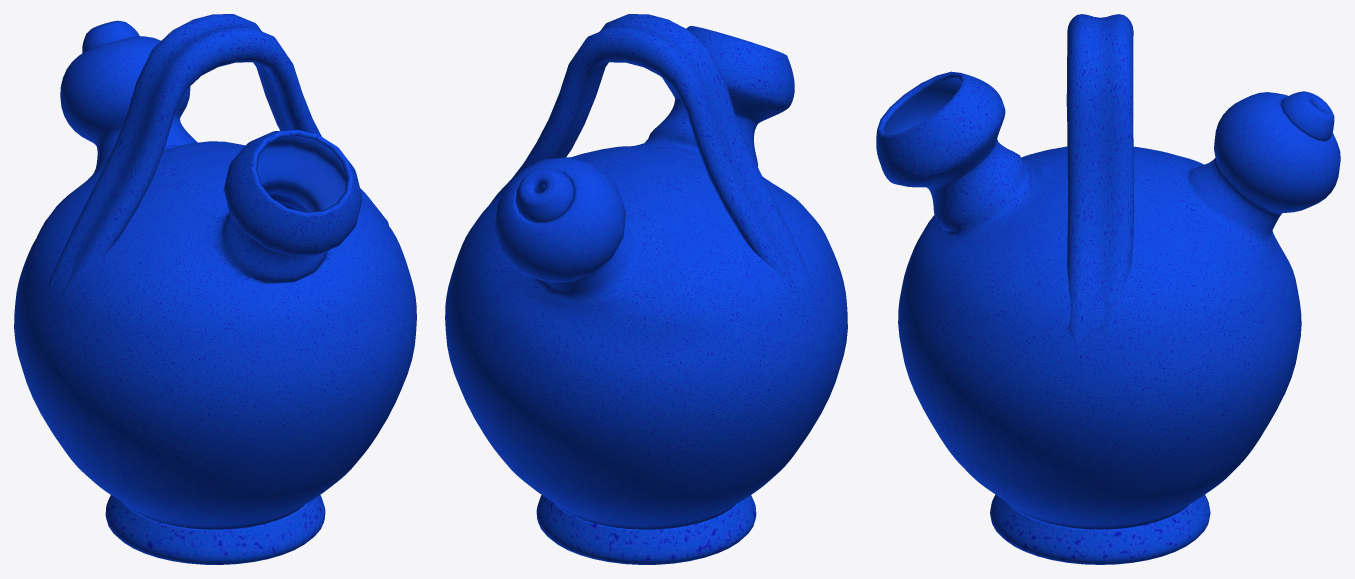
File: botijo.glb
3 views of the same model, side by side, from view 1: azimuth 30°, elevation 25°; view 2: azimuth 150°, elevation 25°; view 3: azimuth 270°, elevation 25° (orthographic).
Parts seen in each view (by area): view 1: BezierCurve%2E001; view 2: BezierCurve%2E001; view 3: BezierCurve%2E001.
Boxes of the visible parts, x1,y1,x2,y2 form: BezierCurve%2E001: (14, 14, 416, 564); BezierCurve%2E001: (445, 14, 847, 564); BezierCurve%2E001: (876, 14, 1340, 564).
Size of the model in its own units: 0.1395 by 0.1898 by 0.1604.
1 material, 1 textured.
